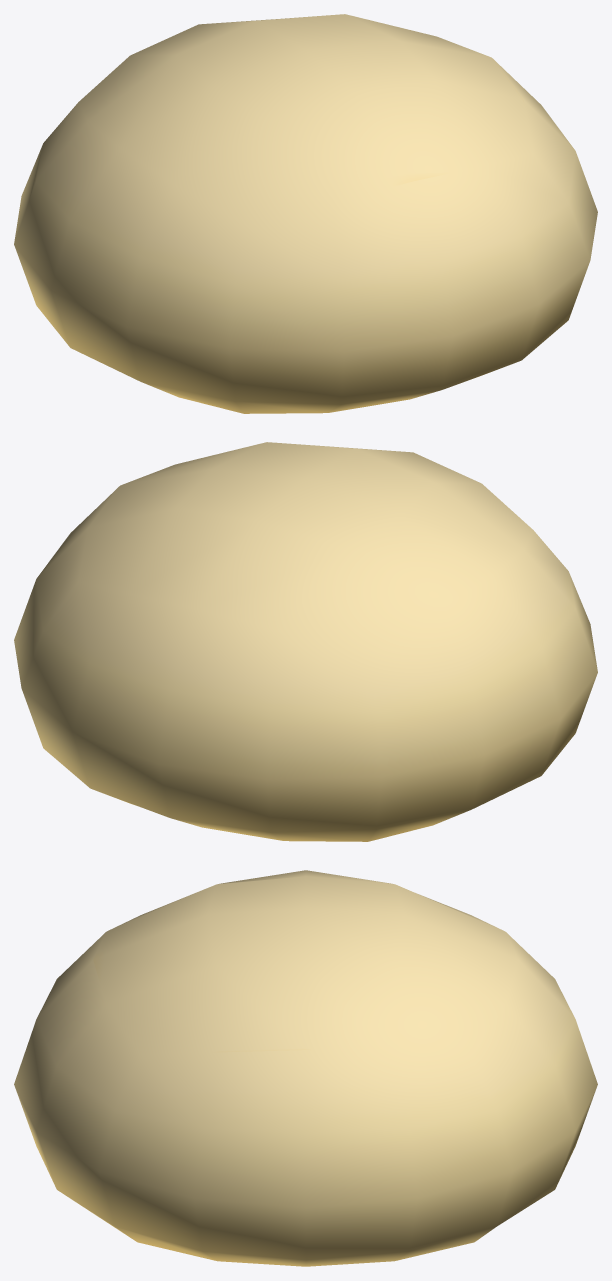
File: dough.gltf
The picture shows the model from 3 angles, top to bottom: view 1: azimuth 30°, elevation 25°; view 2: azimuth 150°, elevation 25°; view 3: azimuth 270°, elevation 25°; orthographic projection.
Parts seen in each view (by area): view 1: Cube; view 2: Cube; view 3: Cube.
Part boxes in pixels (left/top/right/bottom): Cube: left=14, top=14, right=597, bottom=413; Cube: left=14, top=442, right=597, bottom=841; Cube: left=14, top=870, right=597, bottom=1266.
Bounding box in the file's own units: 1.73 × 0.8946 × 1.73.
